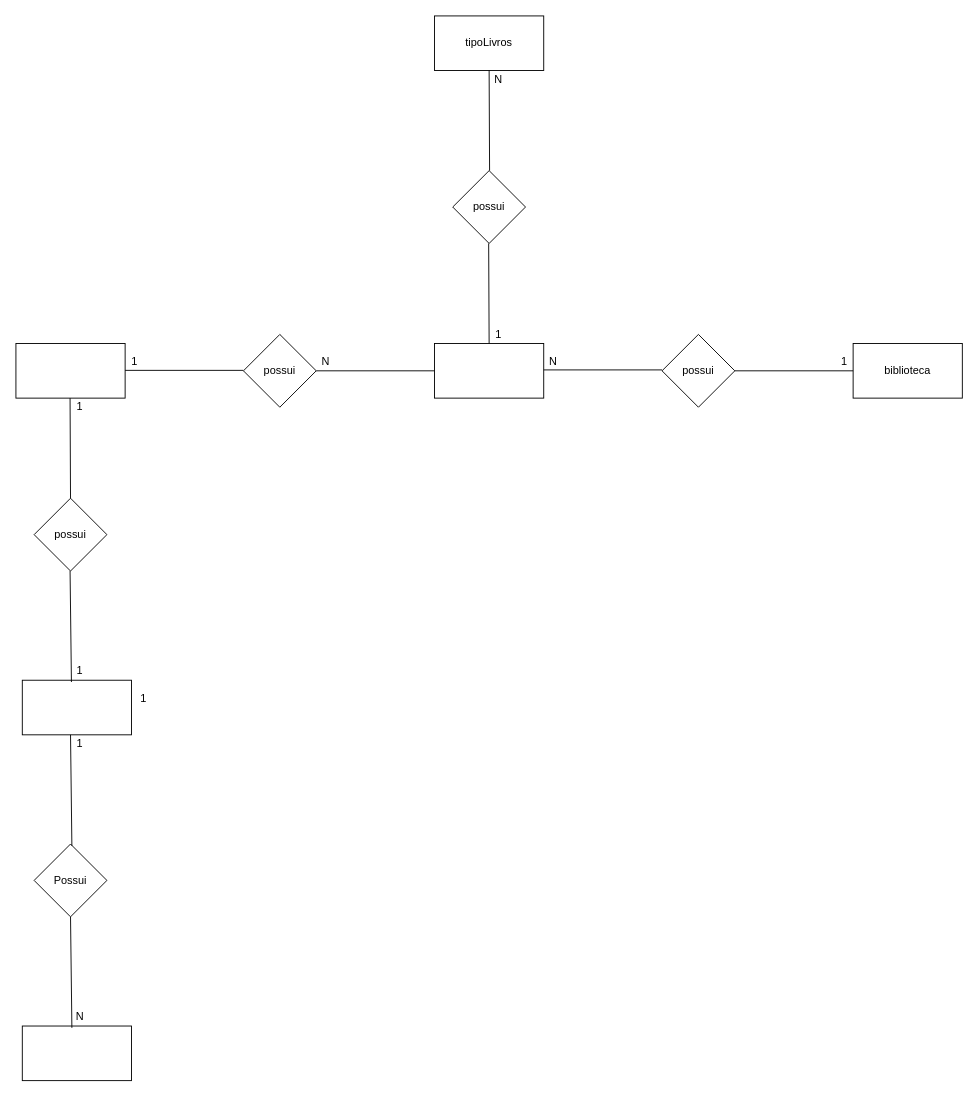
This 978x1097 diagram has some shape labels left out. The shapes that lost their labels are listed below. From the top down, each one's centre as x and y in pixels, then its label:
point (70, 370): autor
point (489, 370): livros
point (76, 707): usuarios
point (76, 1053): tipoUsuarios
